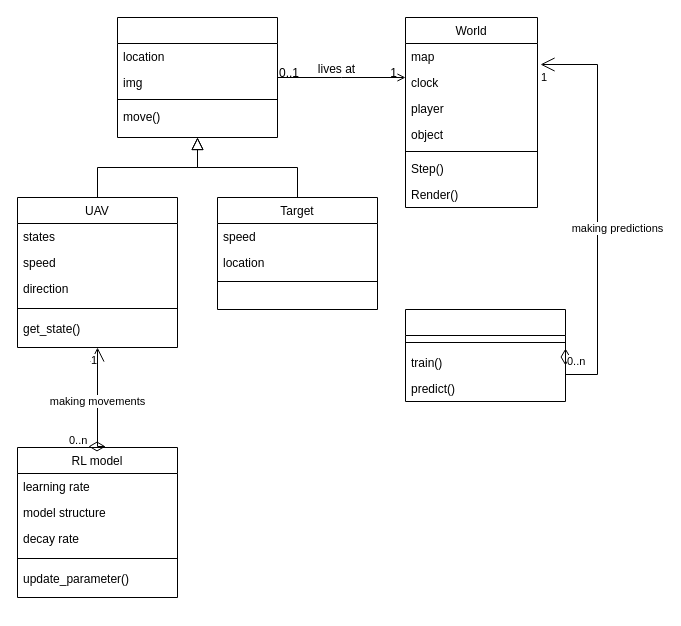
This 681x626 diagram has some shape labels left out. The box of each missing label's shape, as (x1, y1, x2, y2) in pixels:
Prediction model: (404, 308, 566, 402)
Spirit: (116, 16, 278, 138)
